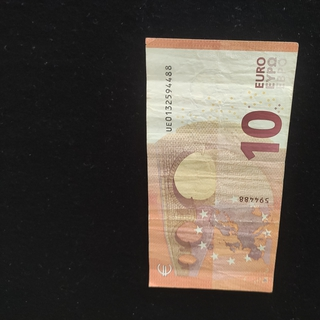10EUROBack: (144, 37, 298, 294)
